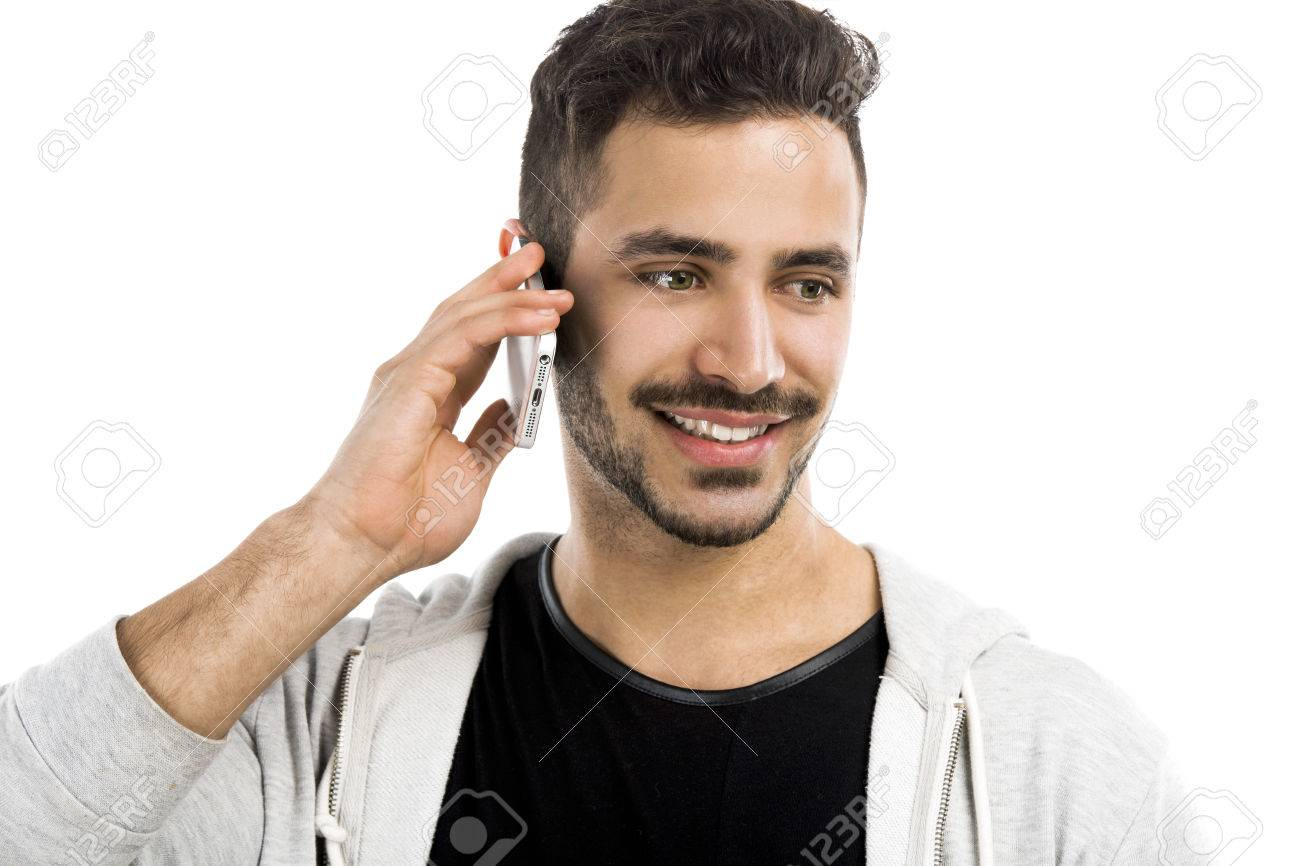phone: (465, 222, 575, 465)
talk: (345, 197, 869, 598)
